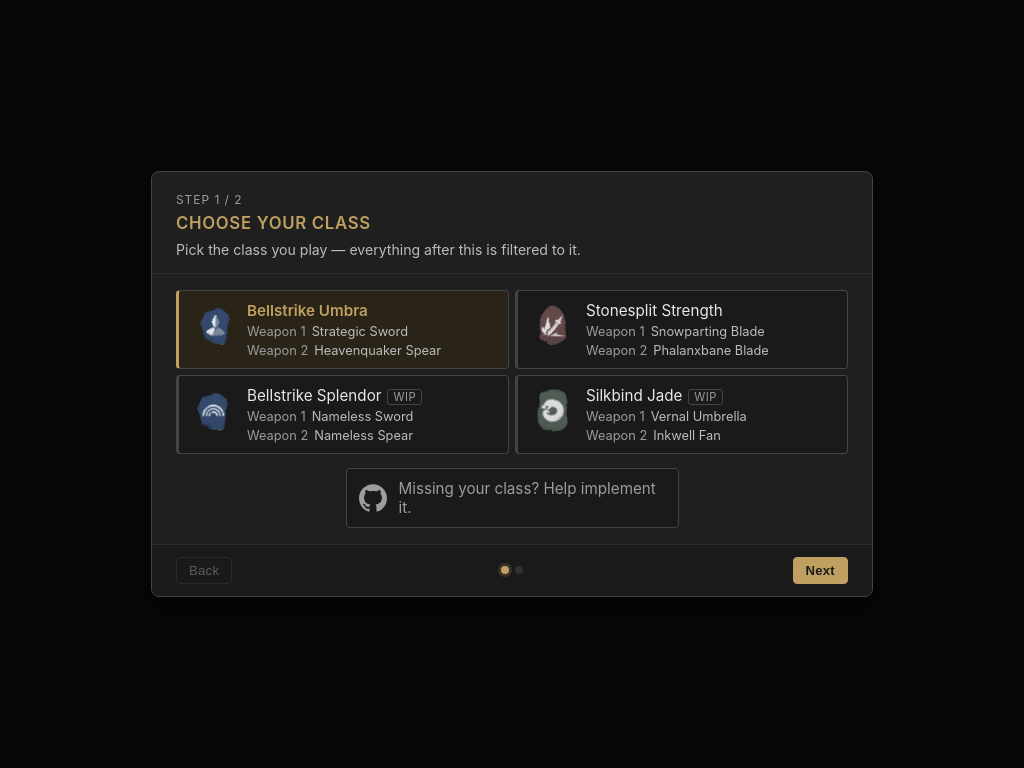
SetupWizard › step 1 shows the class picker, and Next lands on the import step
The width and height of the screenshot is (1024, 768).
What coordinates should you click on to do the following:
click the button "Stonesplit Strength"
I would click on:
 (682, 329)
Its box is [515,290,848,368].
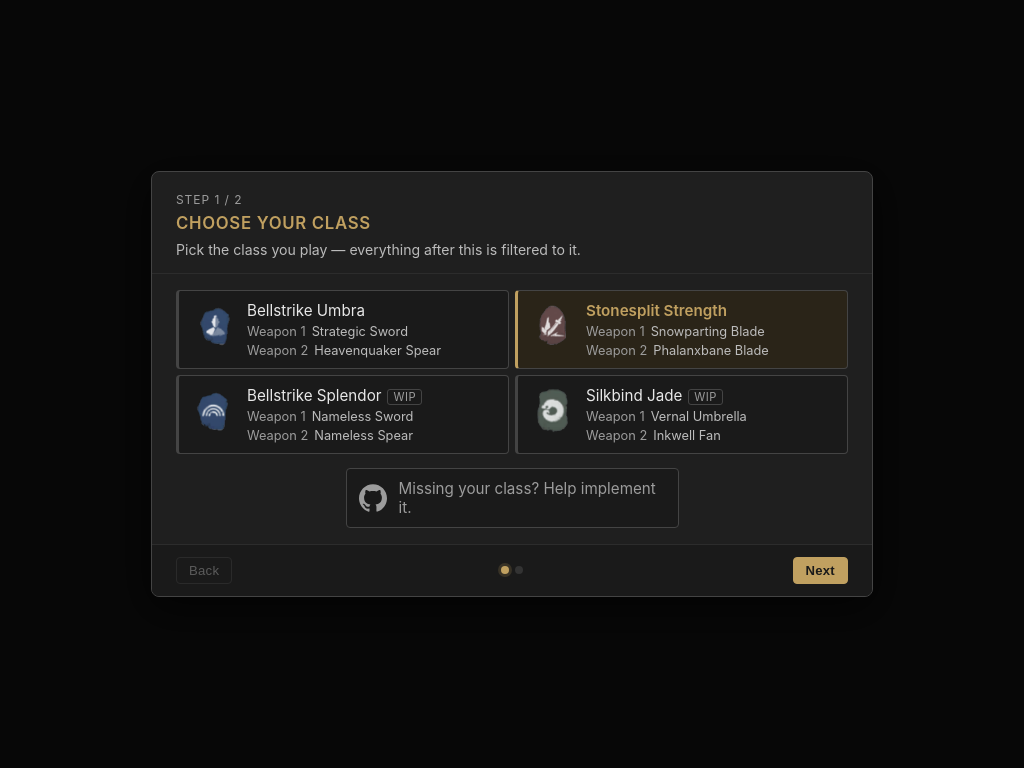
What coordinates should you click on to do the following:
click the button "Next"
I would click on:
 (820, 570)
Its box is [792,556,848,584].
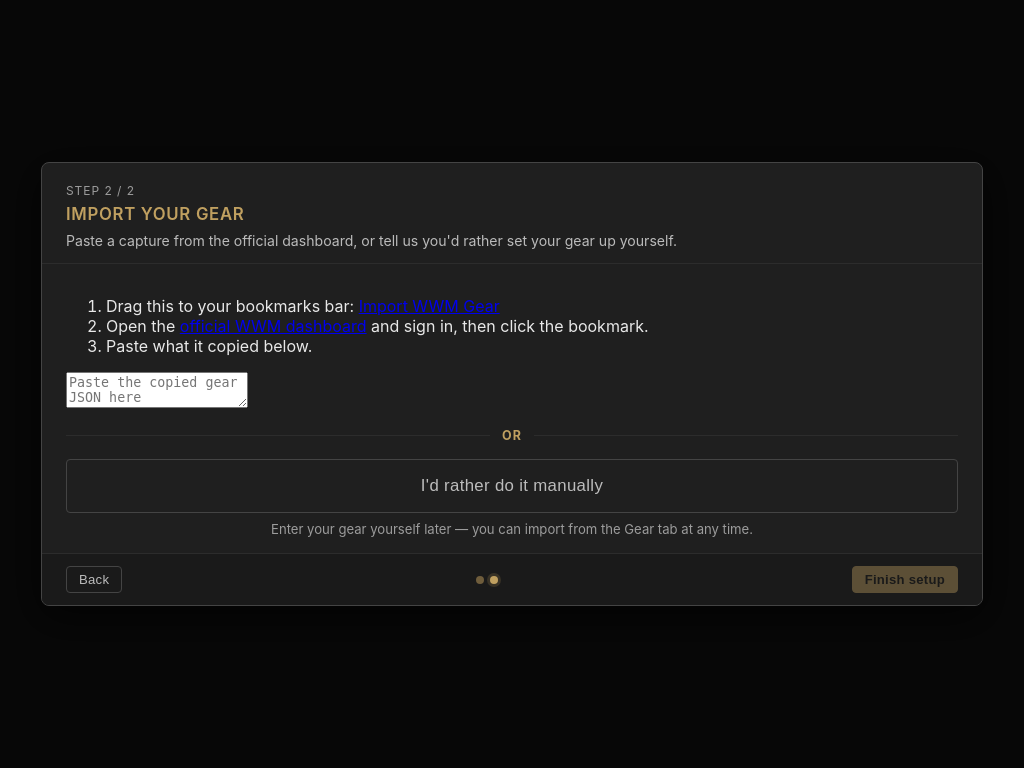
Result: the text box with placeholder "Paste the copied gear JSON here" is shown at [66,372,248,408]
Result: the button "I'd rather do it manually" is shown at [66,459,958,513]
